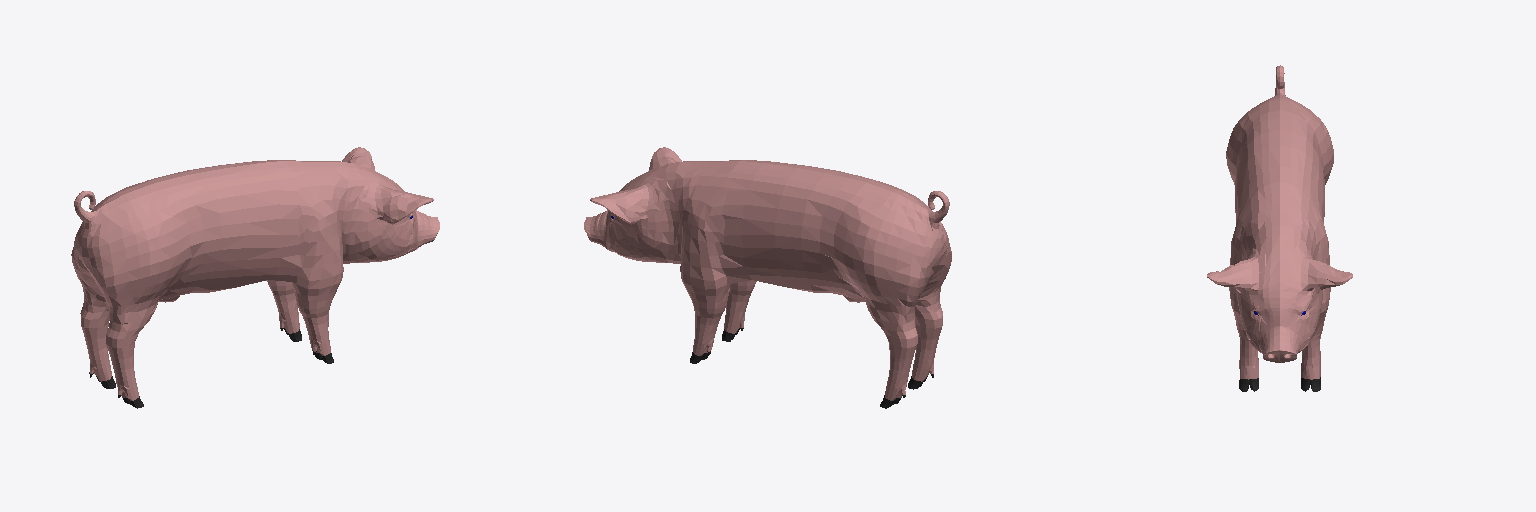
The model's file is pig.obj.
3 views of the same model, side by side, from view 1: azimuth 30°, elevation 25°; view 2: azimuth 150°, elevation 25°; view 3: azimuth 270°, elevation 25° (orthographic).
Visible parts, largest first — view 1: skin, hoofs; view 2: skin, hoofs; view 3: skin.
Part boxes in pixels (x1,y1,x2,y2): skin: (71, 147, 439, 400); hoofs: (89, 328, 333, 408); skin: (584, 147, 951, 400); hoofs: (690, 328, 933, 408); skin: (1207, 65, 1352, 379).
Size of the model in its own units: 5.22 by 2.93 by 1.83.